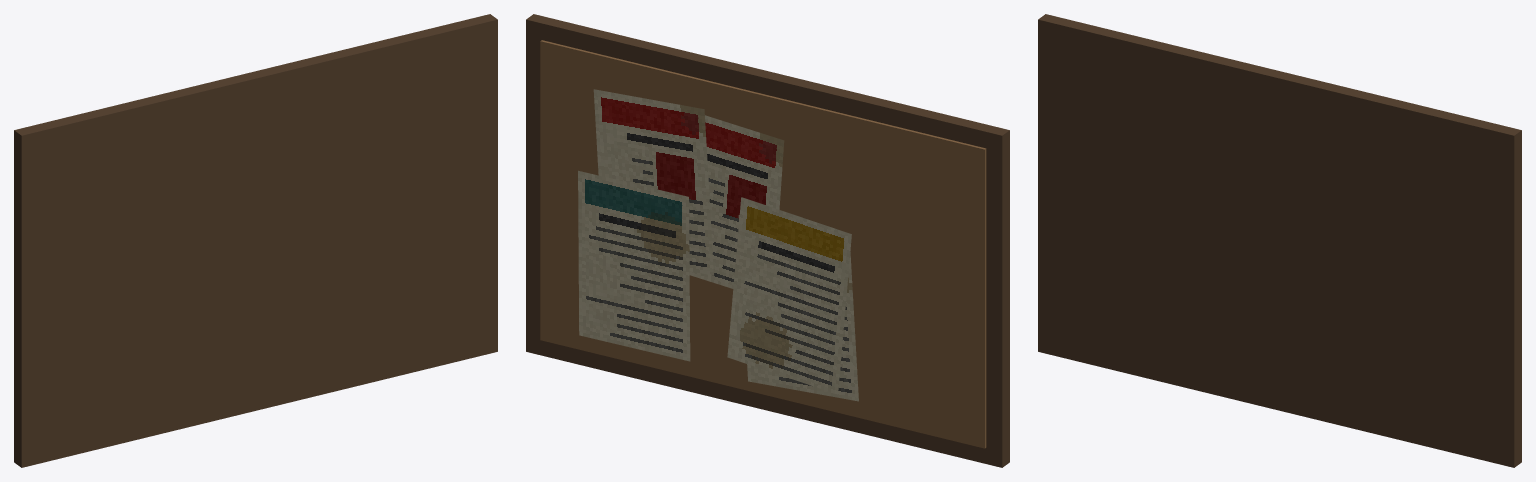
File: notice_board.fbx
3 views of the same model, side by side, from view 1: azimuth 30°, elevation 25°; view 2: azimuth 150°, elevation 25°; view 3: azimuth 330°, elevation 25° (orthographic).
Parts seen in each view (by area): view 1: notice_board; view 2: notice_board; view 3: notice_board.
Boxes of the visible parts, x1=… form: notice_board: x1=14, y1=14, x2=497, y2=467; notice_board: x1=526, y1=14, x2=1009, y2=467; notice_board: x1=1038, y1=14, x2=1521, y2=467.
Size of the model in its own units: 0.9 by 0.6 by 0.037.
